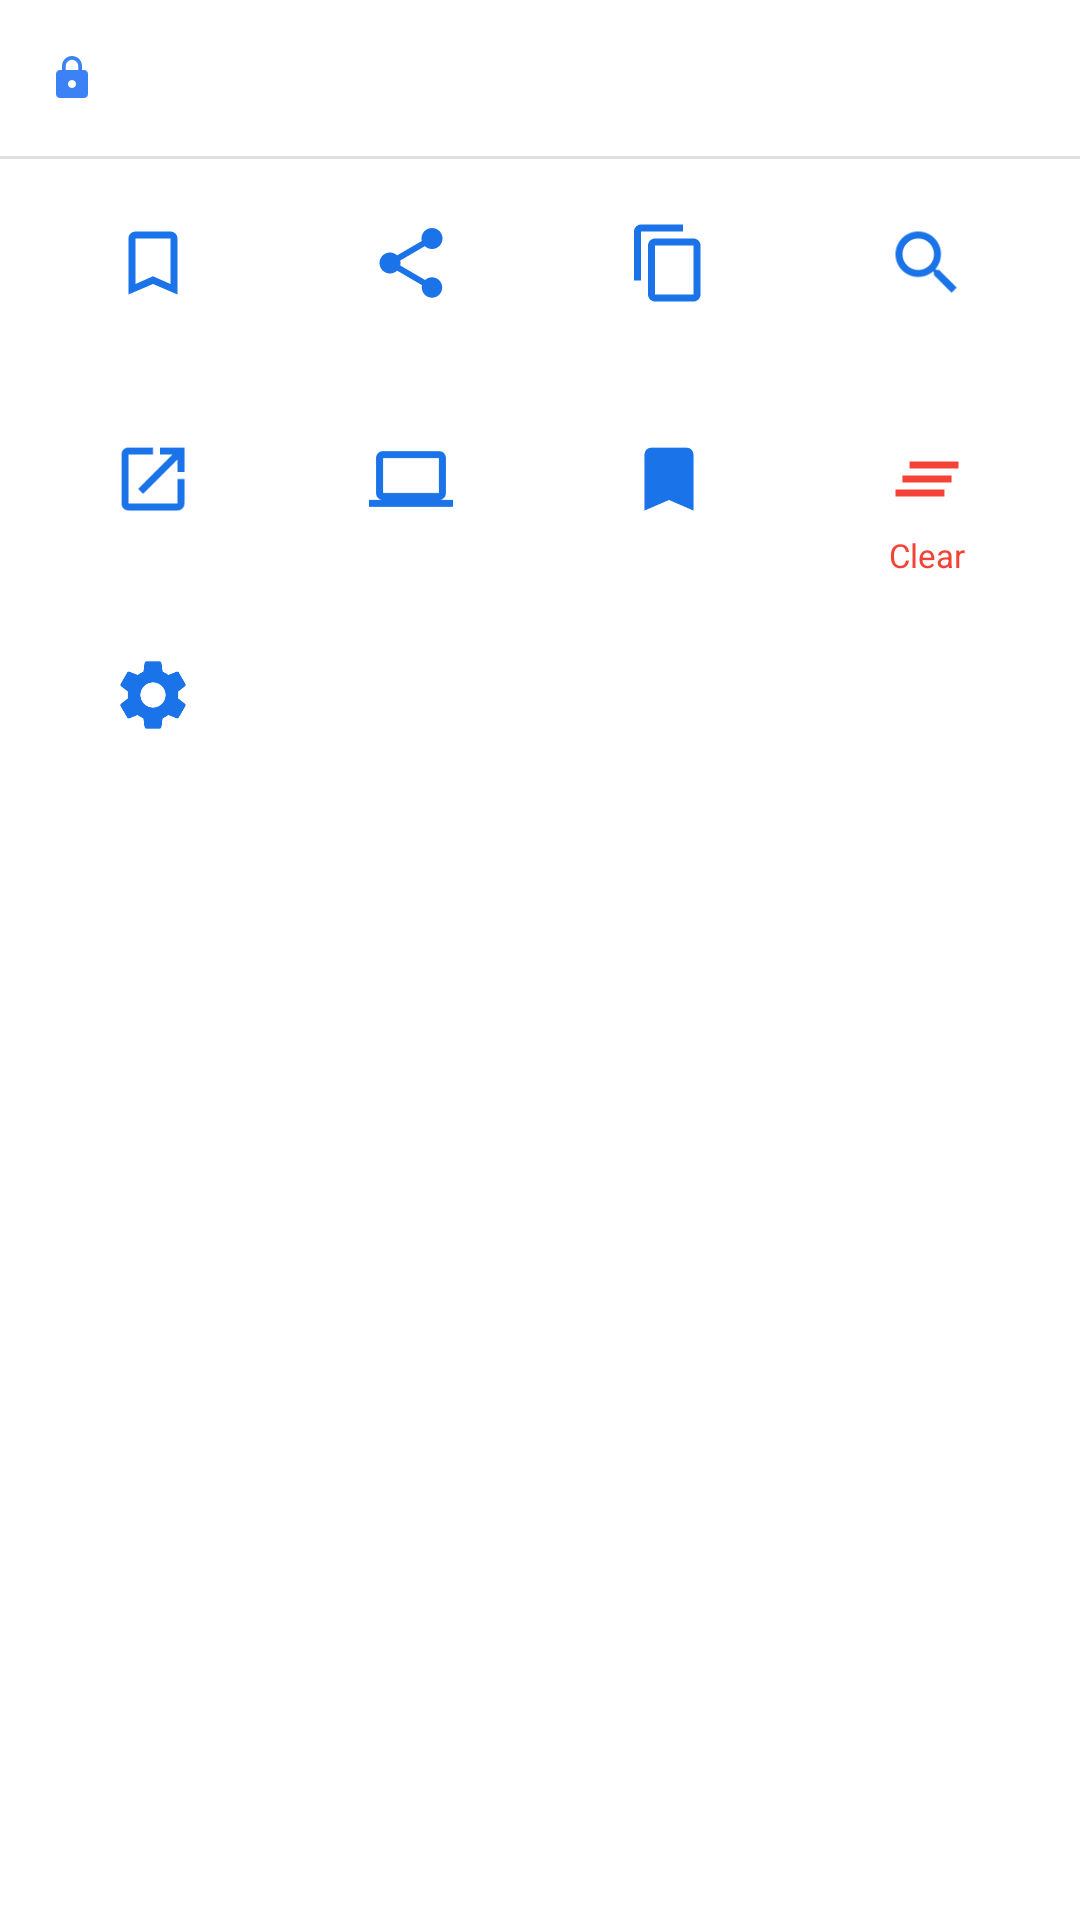

Icon bounding boxes for this 1080w x 1920h phone screenshot, format box(x1, y1, x2, y2):
lock: box(56, 56, 88, 98)
